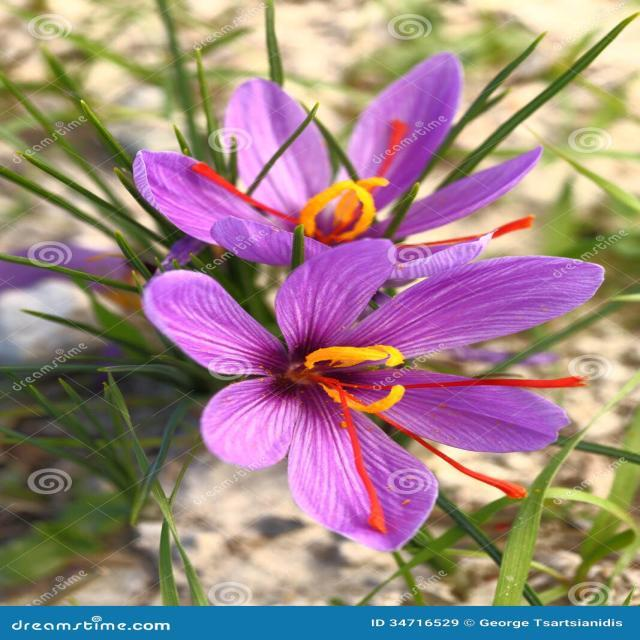Flower: (150, 243, 600, 542), (126, 49, 531, 252)
stigma: (387, 407, 519, 499), (302, 364, 590, 402), (185, 145, 298, 237), (330, 412, 392, 536), (405, 198, 531, 255), (373, 116, 406, 176)
